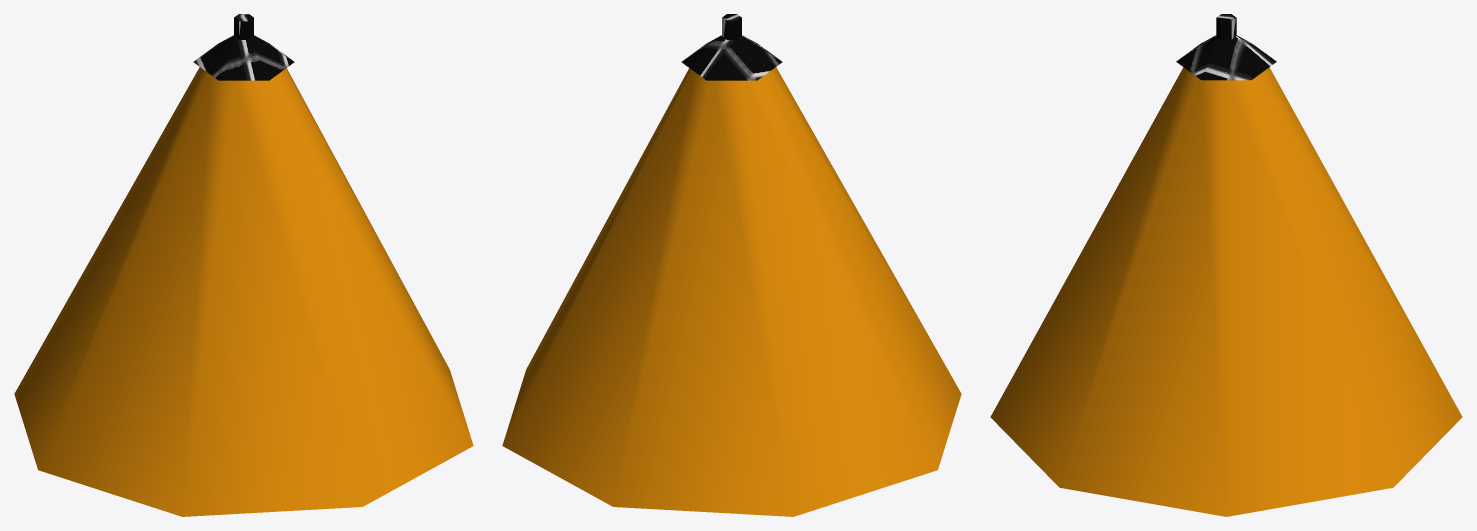
The model's file is lamp.fbx.
3 views of the same model, side by side, from view 1: azimuth 30°, elevation 25°; view 2: azimuth 150°, elevation 25°; view 3: azimuth 270°, elevation 25° (orthographic).
Parts seen in each view (by area): view 1: Cone, lamp; view 2: Cone, lamp; view 3: Cone, lamp.
Boxes of the visible parts, x1,y1,x2,y2 form: Cone: (14,65,473,516); lamp: (193,14,294,80); Cone: (502,65,961,516); lamp: (681,14,782,80); Cone: (990,67,1462,516); lamp: (1176,14,1276,80).
Bounding box in the file's own units: 468 × 437 × 468.
